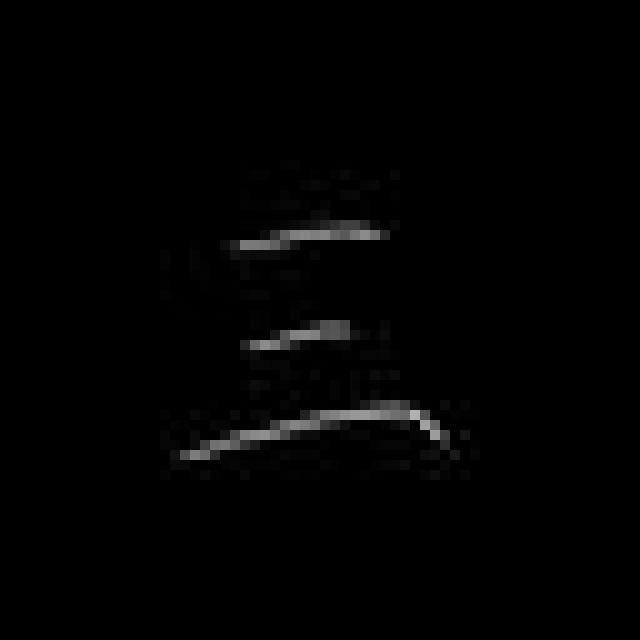3 -three-: (161, 206, 459, 480)
